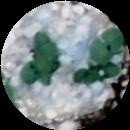Basil: (35, 31, 66, 61), (92, 28, 117, 63), (21, 57, 49, 83), (86, 63, 120, 83)
